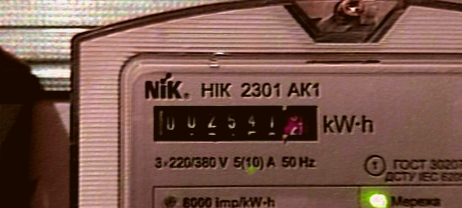0: (164, 110, 177, 131), (185, 108, 197, 129)
1: (266, 107, 277, 130)
2: (205, 107, 219, 129)
4: (246, 106, 257, 128)
5: (225, 107, 238, 130)
6: (288, 123, 299, 135)
screen: (141, 94, 330, 149)
